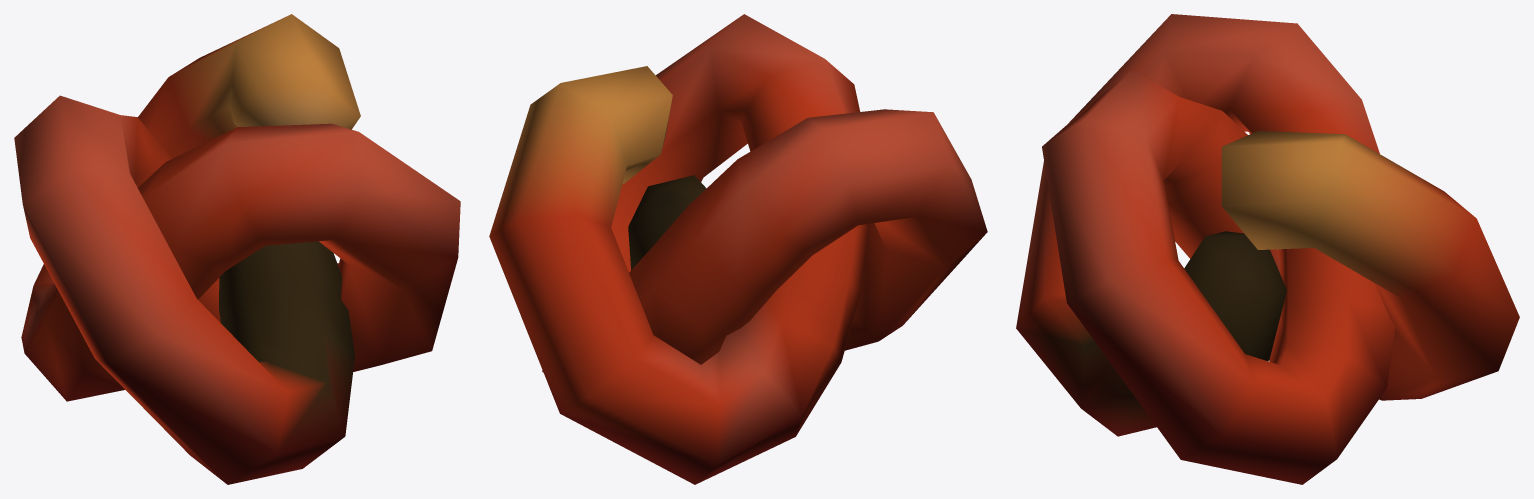
Rendered from Alien_Root06.fbx.
3 renders of one model, left to right at view 1: azimuth 30°, elevation 25°; view 2: azimuth 150°, elevation 25°; view 3: azimuth 270°, elevation 25°, orthographic. The views are drawn at different scales.
Parts seen in each view (by area): view 1: Alien_Root06; view 2: Alien_Root06; view 3: Alien_Root06.
Boxes of the visible parts, left/top/right/bottom form: Alien_Root06: left=14, top=14, right=460, bottom=484; Alien_Root06: left=489, top=14, right=987, bottom=484; Alien_Root06: left=1016, top=14, right=1519, bottom=484.
Size of the model in its own units: 1503 by 1186 by 1569.
